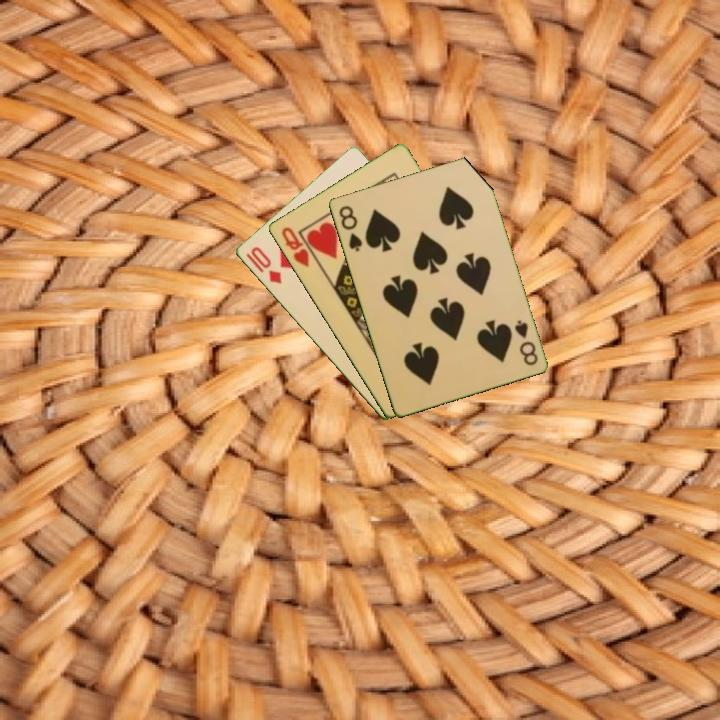10d: (242, 243, 285, 287)
8s: (335, 202, 365, 254), (511, 316, 540, 368)
Qh: (277, 223, 312, 270)
